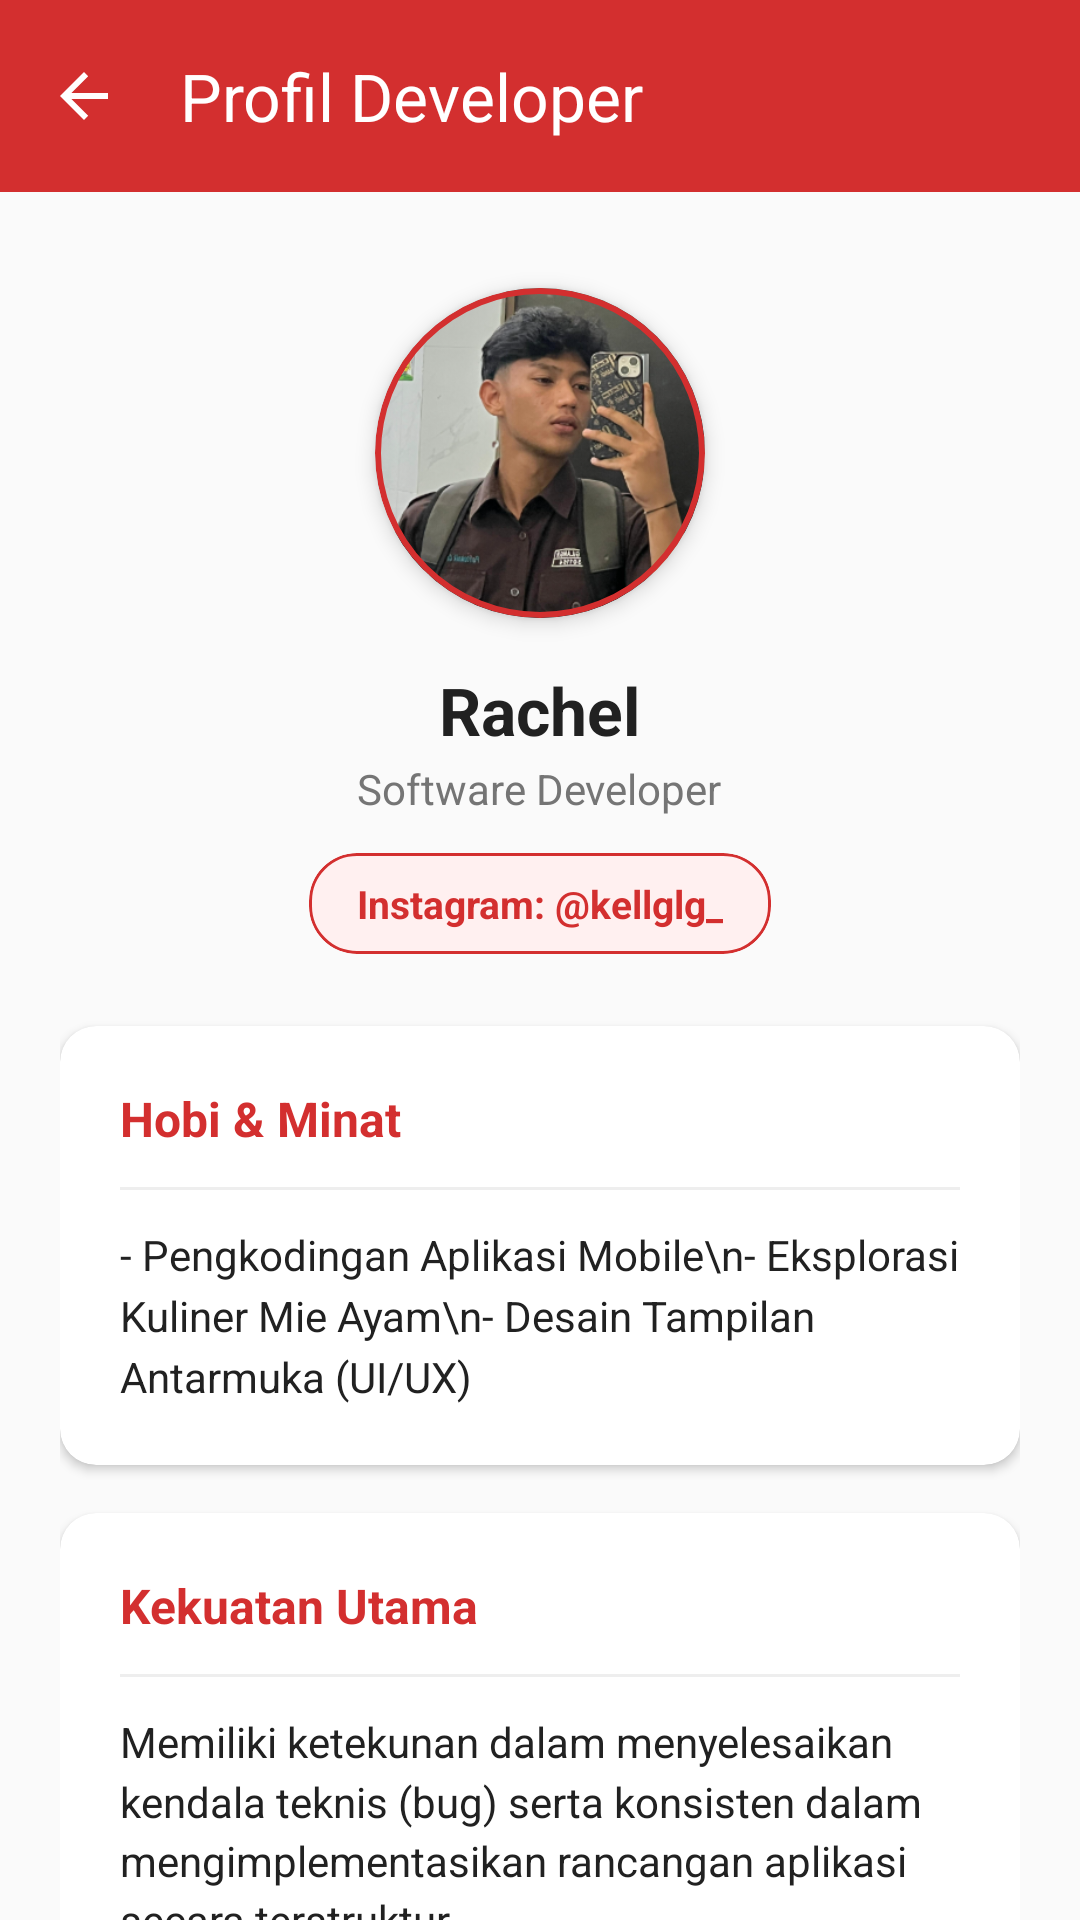

Named icons in this screenshot (1080px x 1920px) and their bounding boxes, (x1, y1, x2, y2):
Foto Profil: (375, 288, 705, 618)
